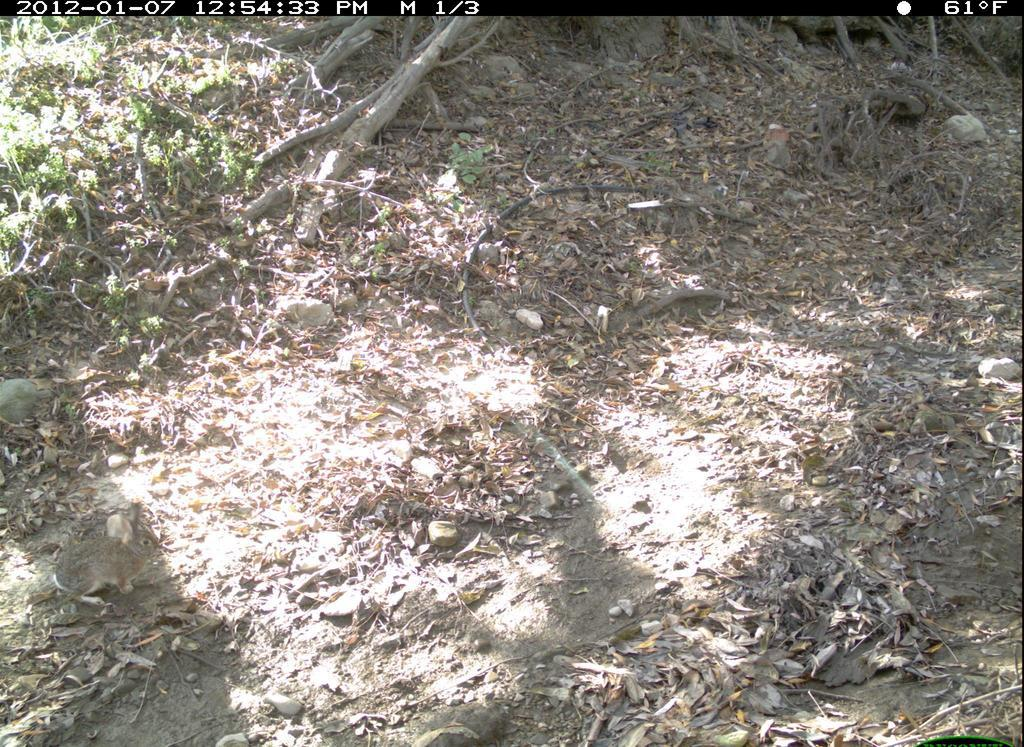rabbit: (49, 497, 172, 621)
